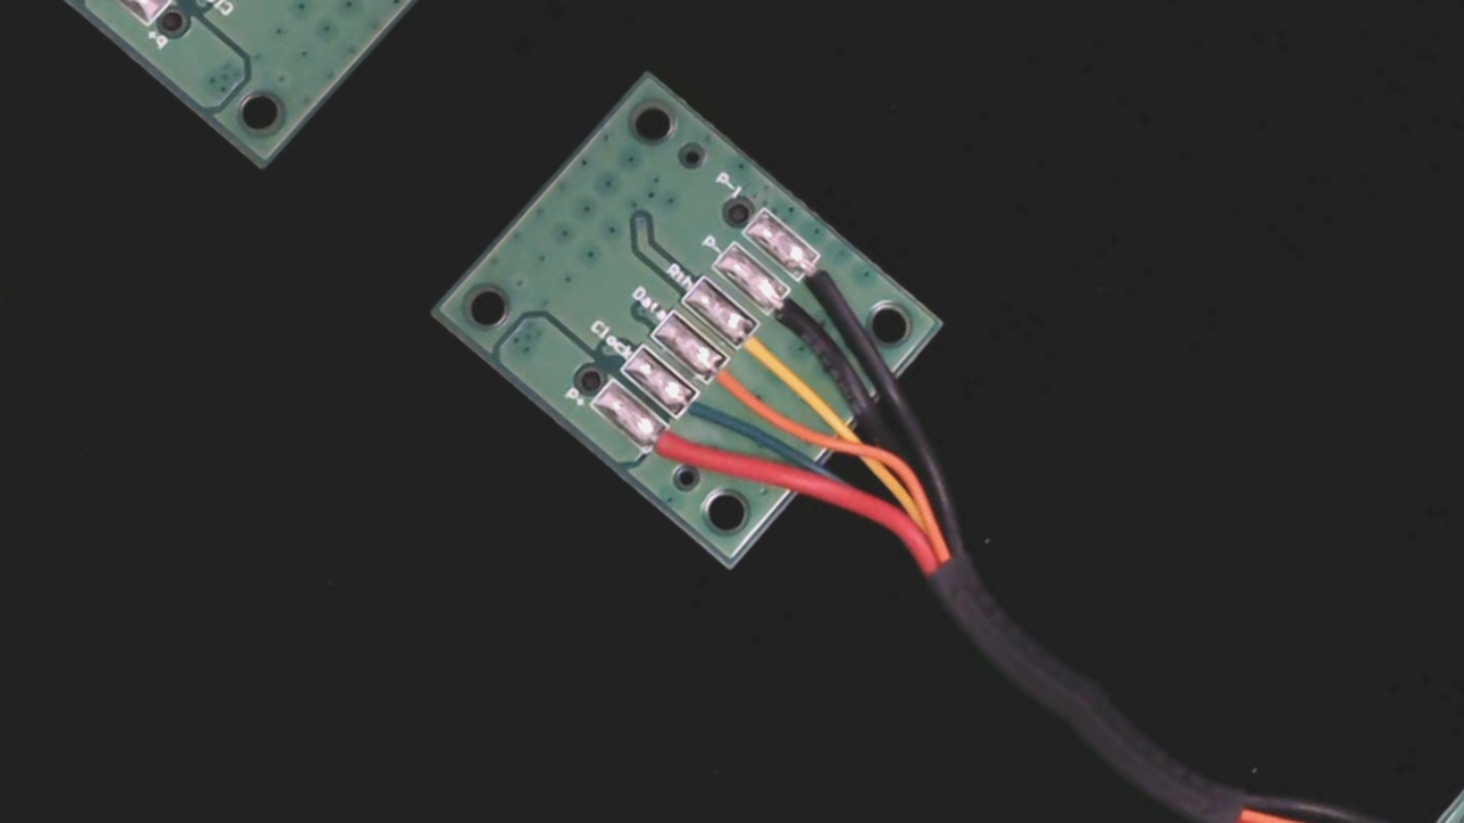Black: (750, 275, 837, 357)
Black1: (783, 241, 869, 323)
Green: (664, 382, 740, 453)
Orange: (688, 340, 778, 424)
Red: (634, 412, 711, 485)
Yellow: (720, 310, 805, 390)
